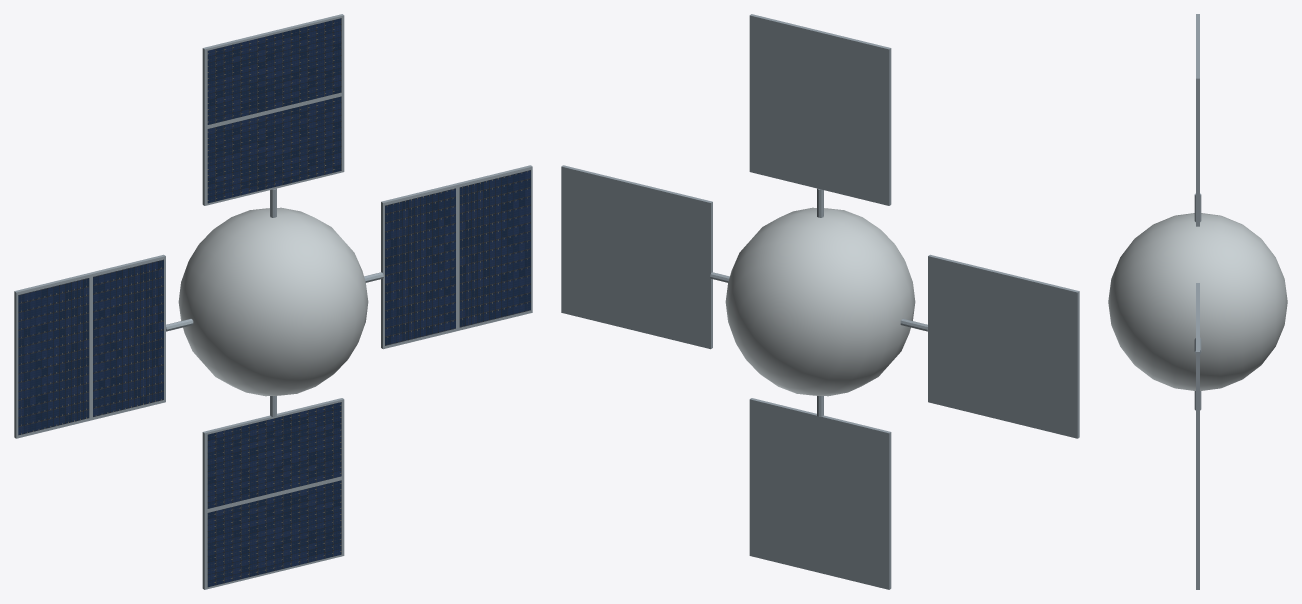
Rendered from ref-able-probe-15.glb.
3 renders of one model, left to right at view 1: azimuth 30°, elevation 25°; view 2: azimuth 150°, elevation 25°; view 3: azimuth 270°, elevation 25°, orthographic. The views are drawn at different scales.
Visible parts, largest first — view 1: Photovoltaic laminates (×8), Spacecraft body, Array frame (×8); view 2: Array frame (×8), Spacecraft body; view 3: Spacecraft body, Array frame (×4).
Boxes of the visible parts, box(x1,y1,x2,y2) form: Photovoltaic laminates (×8): box(18, 18, 530, 587); Spacecraft body: box(178, 207, 368, 396); Array frame (×8): box(14, 14, 532, 589); Array frame (×8): box(561, 14, 1079, 589); Spacecraft body: box(725, 207, 915, 396); Spacecraft body: box(1108, 213, 1287, 390); Array frame (×4): box(1196, 14, 1199, 589).
Size of the model in its own units: 2.2 by 2.2 by 0.7.
Materials: 3 (1 with a texture image).
